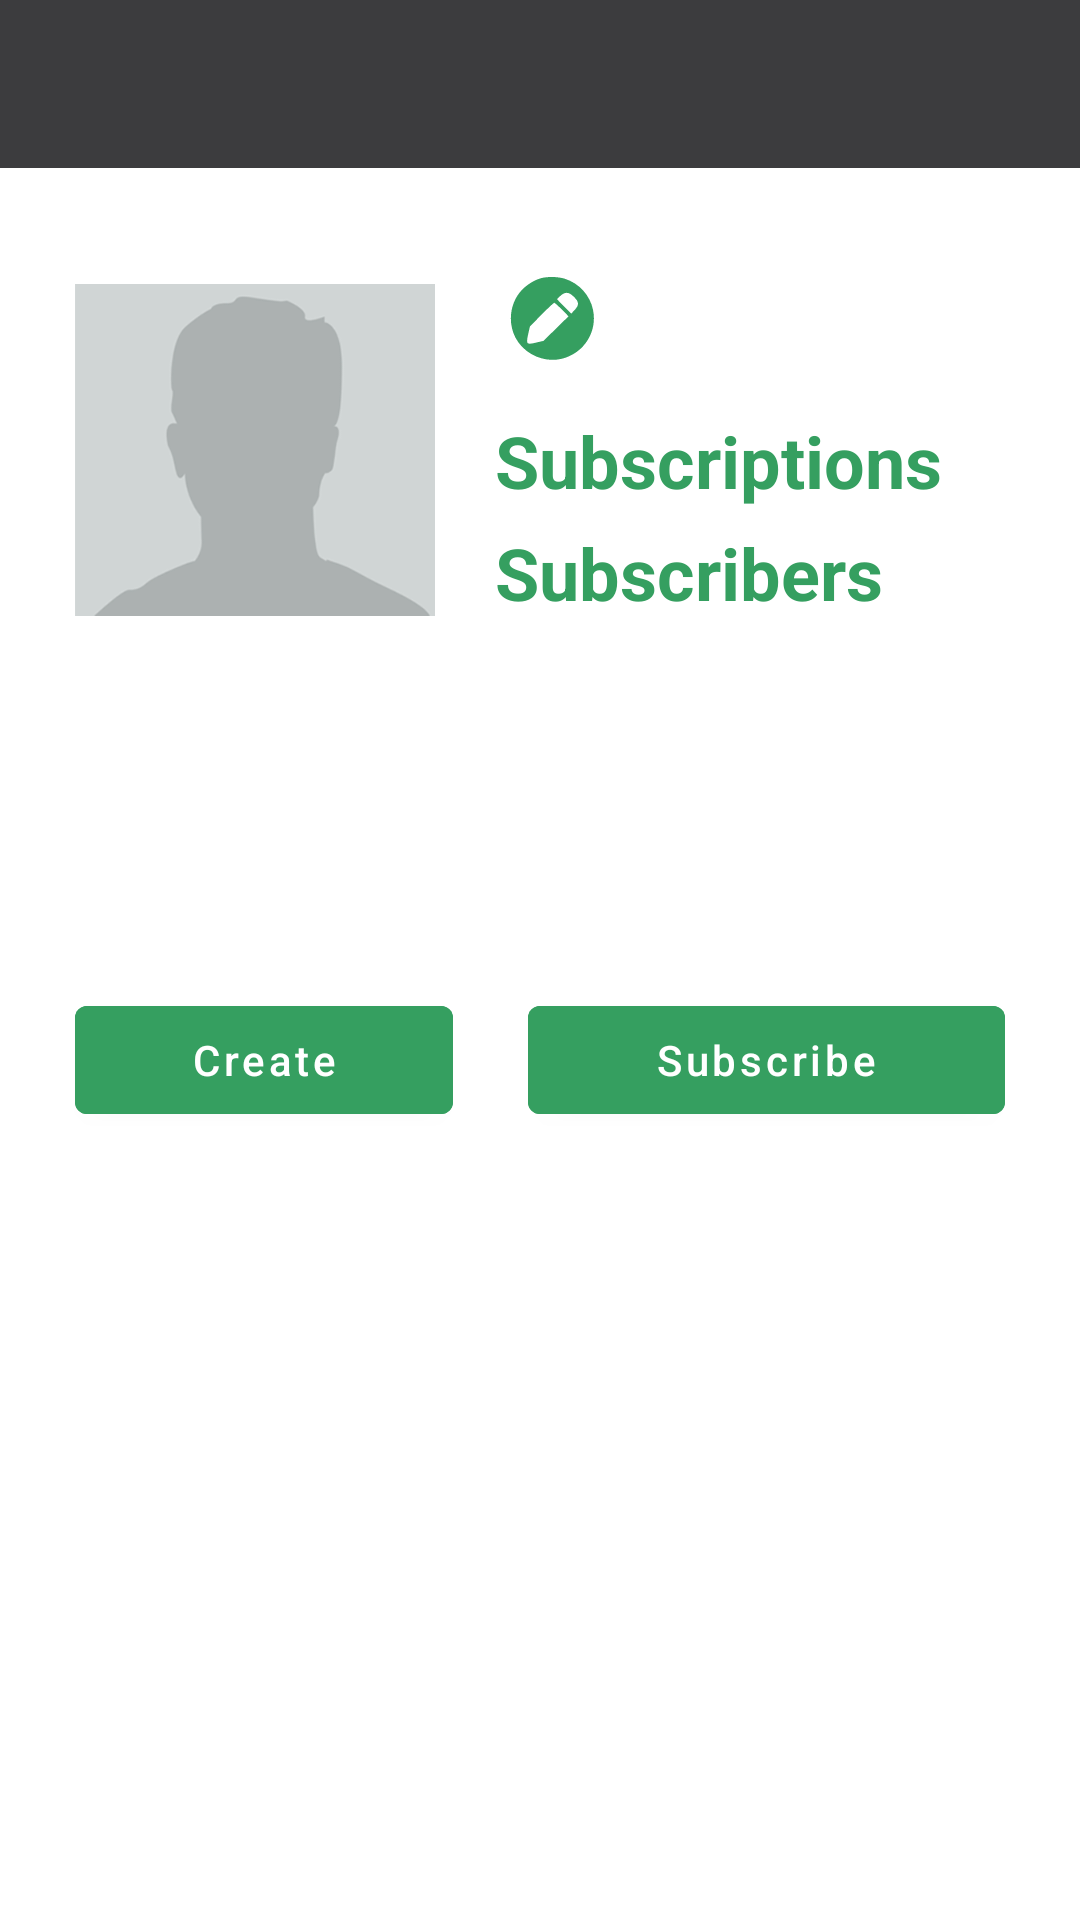

Named icons in this screenshot (1080px×1920px) and their bounding boxes, [x1, y1, x2, y2]:
edit: [510, 277, 594, 360]
